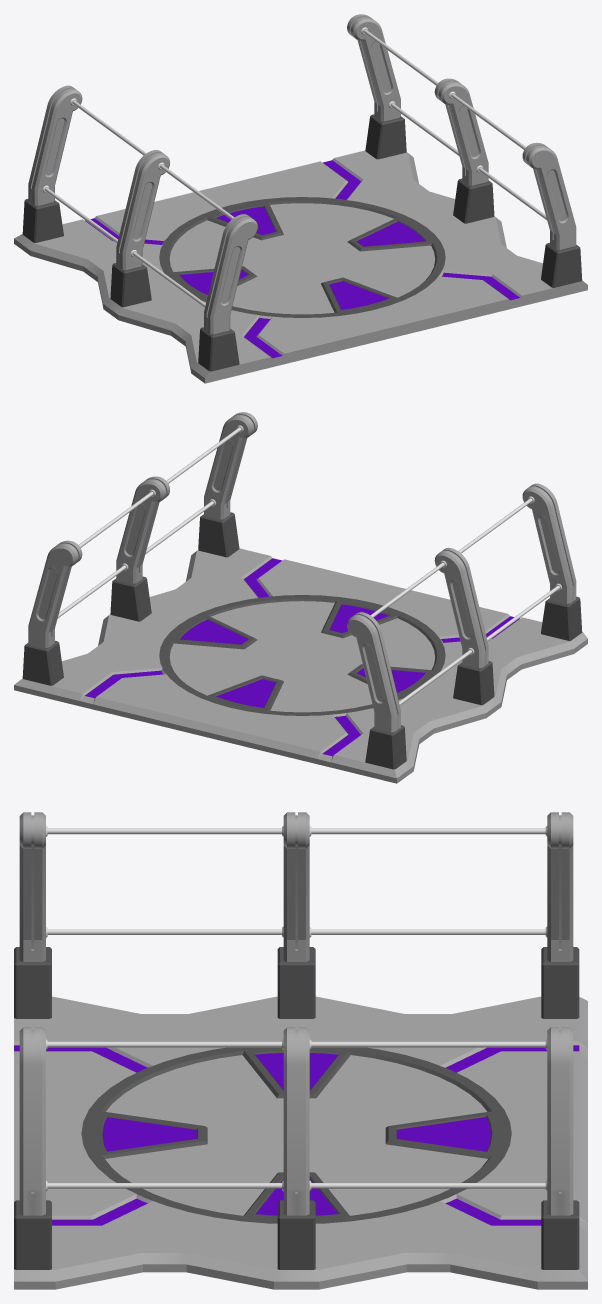
Rendered from teleport pad v2.fbx.
3 renders of one model, top to bottom at view 1: azimuth 30°, elevation 25°; view 2: azimuth 150°, elevation 25°; view 3: azimuth 270°, elevation 25°, orthographic. The views are drawn at different scales.
Parts seen in each view (by area): view 1: Component_4_1, Component_1_1, Component_1_2, Component_1_3, Component_1_5, Component_1_4, Component_1_6, Component_3_6, Component_3_5, Component_3_4, Component_3_1, Component_3_3 (+1 smaller); view 2: Component_4_1, Component_1_2, Component_1_1, Component_1_3, Component_1_6, Component_1_4, Component_1_5, Component_3_6, Component_3_4, Component_3_5, Component_3_2, Component_3_3 (+1 smaller); view 3: Component_4_1, Component_1_5, Component_1_6, Component_1_4, Component_1_3, Component_1_2, Component_1_1, Component_3_2, Component_3_3, Component_3_1, Component_3_5, Component_3_6 (+9 smaller).
Boxes of the visible parts, box(x1,y1,x2,y2) form: Component_4_1: box(14, 150, 587, 383); Component_1_1: box(204, 214, 257, 334); Component_1_2: box(28, 85, 82, 205); Component_1_3: box(116, 150, 169, 270); Component_1_5: box(522, 142, 576, 249); Component_1_4: box(434, 78, 488, 185); Component_1_6: box(347, 14, 400, 121); Component_3_6: box(453, 178, 494, 223); Component_3_5: box(365, 114, 406, 159); Component_3_4: box(541, 242, 582, 287); Component_3_1: box(198, 327, 239, 371); Component_3_3: box(22, 199, 63, 242); Component_4_1: box(14, 548, 587, 783); Component_1_2: box(347, 612, 400, 732); Component_1_1: box(522, 483, 576, 603); Component_1_3: box(434, 547, 488, 667); Component_1_6: box(28, 540, 82, 647); Component_1_4: box(116, 476, 169, 583); Component_1_5: box(204, 412, 257, 519); Component_3_6: box(110, 576, 151, 621); Component_3_4: box(198, 512, 239, 557); Component_3_5: box(22, 640, 63, 685); Component_3_2: box(453, 661, 494, 705); Component_3_3: box(365, 725, 406, 769); Component_4_1: box(14, 996, 587, 1289); Component_1_5: box(19, 1027, 45, 1215); Component_1_6: box(547, 1027, 573, 1215); Component_1_4: box(283, 1027, 309, 1215); Component_1_3: box(283, 812, 309, 961); Component_1_2: box(547, 812, 573, 961); Component_1_1: box(19, 812, 45, 961); Component_3_2: box(277, 947, 315, 1018); Component_3_3: box(541, 947, 579, 1018); Component_3_1: box(14, 947, 51, 1018); Component_3_5: box(541, 1200, 579, 1269); Component_3_6: box(277, 1200, 315, 1269).
Bounding box in the file's own units: 114 × 43 × 98.5.
